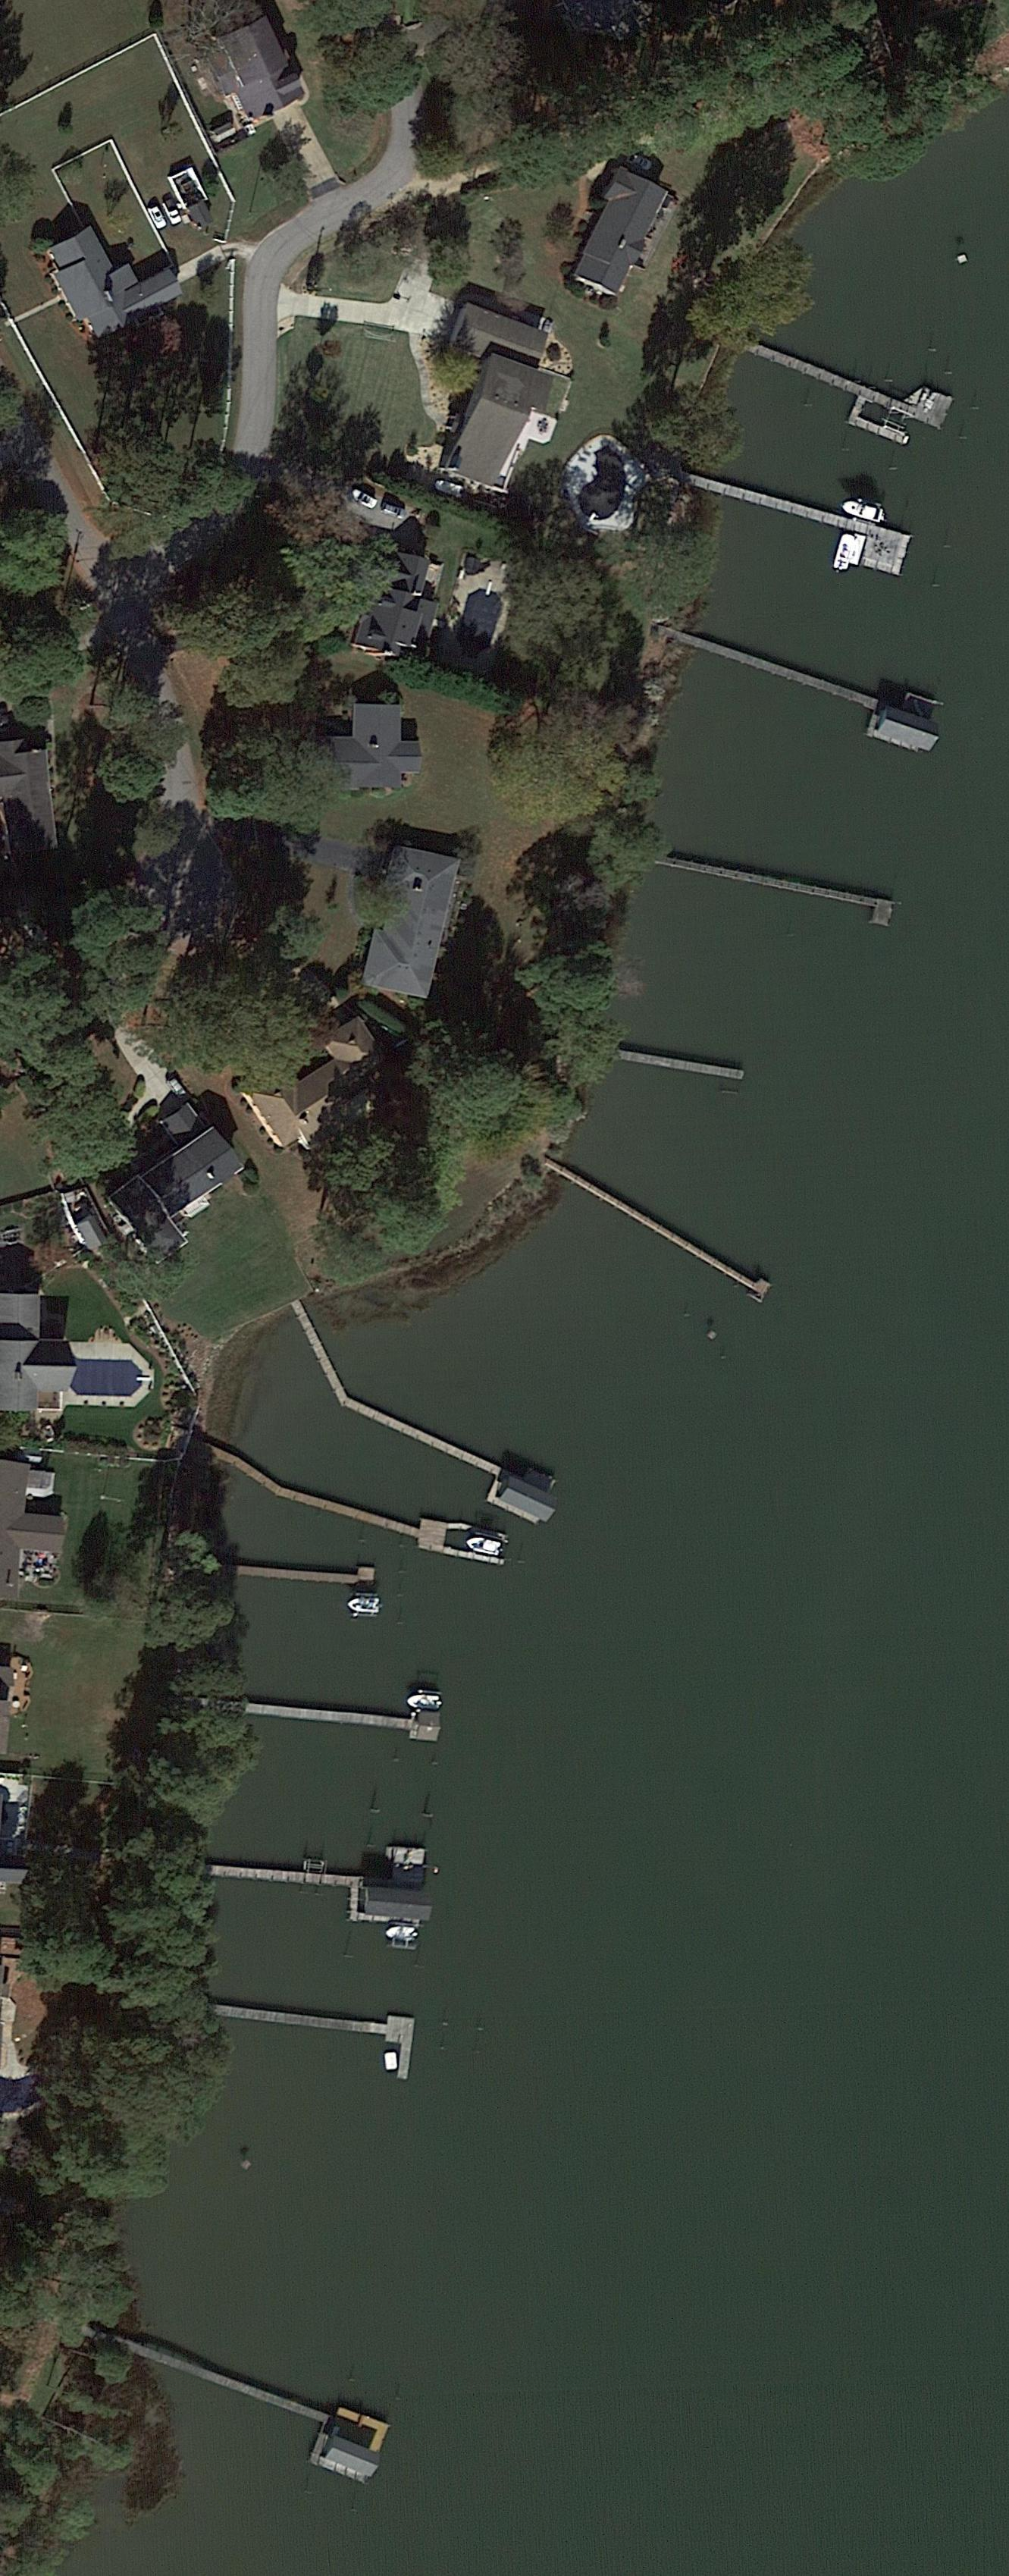harbor: (329, 1387, 567, 1529), (743, 325, 956, 457), (179, 2357, 394, 2487), (731, 637, 948, 757), (593, 1184, 772, 1303), (274, 1483, 513, 1569), (253, 1838, 431, 1950), (245, 1999, 417, 2081), (690, 861, 897, 928), (761, 494, 914, 578), (265, 1697, 444, 1741), (235, 1559, 376, 1594), (626, 1048, 746, 1079)
ship: (835, 493, 889, 526), (832, 531, 859, 573), (465, 1533, 506, 1559), (401, 1689, 445, 1712), (385, 1924, 424, 1943), (347, 1595, 383, 1617)
